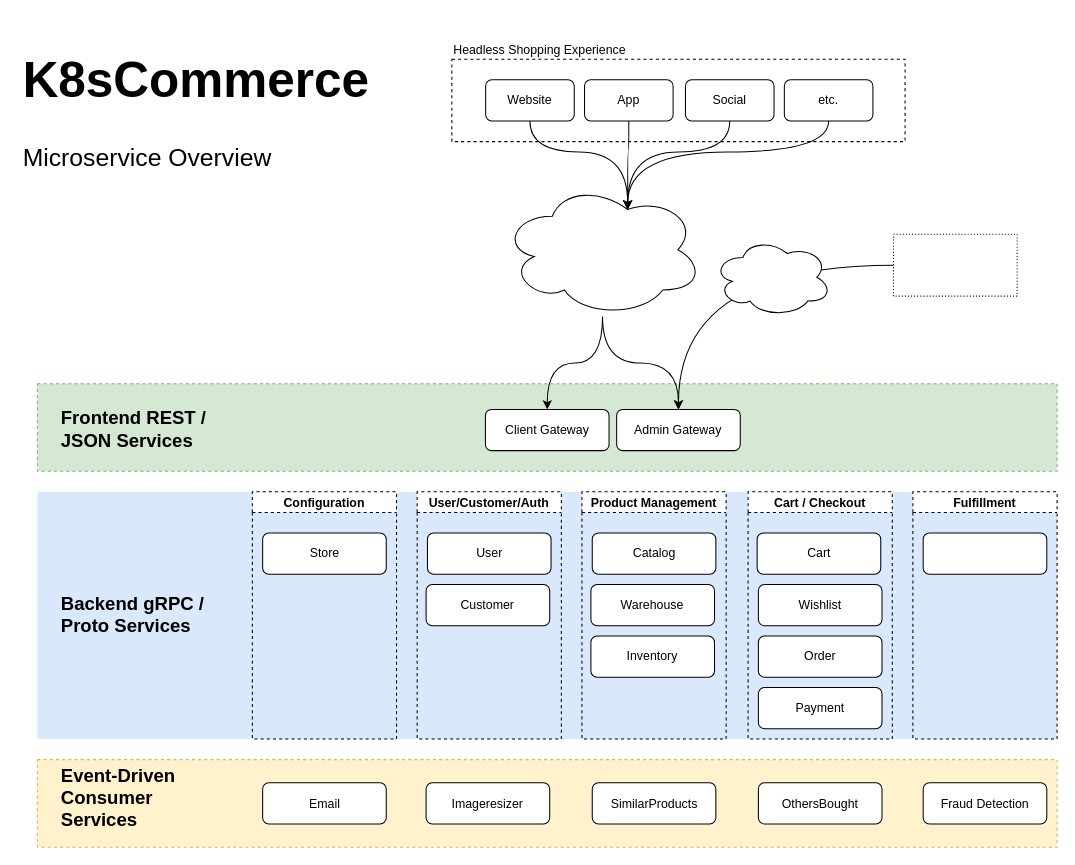
Some shapes in this 1075 by 865 pixel diagram are drawn without their labels. Each missing label, with the centre of its shape:
"Administration App" goes at point (954, 264).
"Internet" goes at point (602, 249).
"Shipping" goes at point (984, 553).
"VPN / Intranet" goes at point (772, 277).
